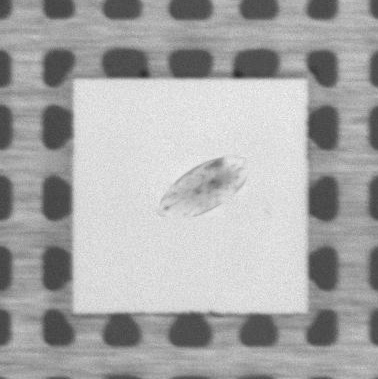DIE_INK: (154, 152, 249, 221)
